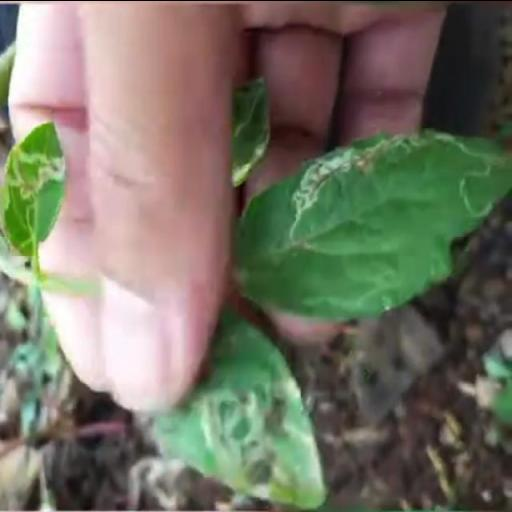disease_tomato: (231, 126, 512, 322), (145, 307, 329, 512), (0, 116, 71, 251)
